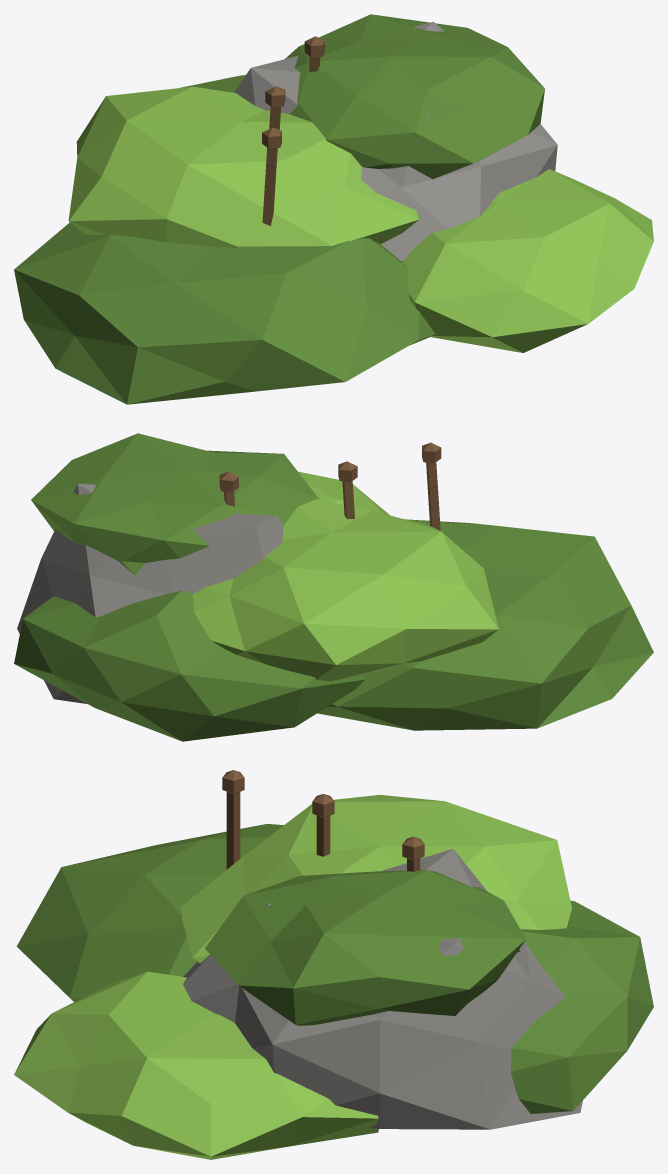
Rendered from mossPatch.glb.
3 views of the same model, one above another, from view 1: azimuth 30°, elevation 25°; view 2: azimuth 150°, elevation 25°; view 3: azimuth 270°, elevation 25° (orthographic). The views are drawn at different scales.
Visible parts, largest first — view 1: Moss cushion, Moss stone, Moss spore stalks; view 2: Moss cushion, Moss stone, Moss spore stalks; view 3: Moss cushion, Moss stone, Moss spore stalks.
Boxes of the visible parts, box(x1,y1,x2,y2) form: Moss cushion: box(14, 14, 653, 404); Moss stone: box(234, 22, 557, 261); Moss spore stalks: box(262, 36, 324, 225); Moss cushion: box(14, 433, 653, 741); Moss stone: box(17, 452, 283, 703); Moss spore stalks: box(219, 442, 441, 530); Moss cushion: box(14, 794, 653, 1159); Moss stone: box(183, 849, 582, 1129); Moss spore stalks: box(222, 770, 424, 871).
Bounding box in the file's own units: 0.6375 × 0.217 × 0.5686.
